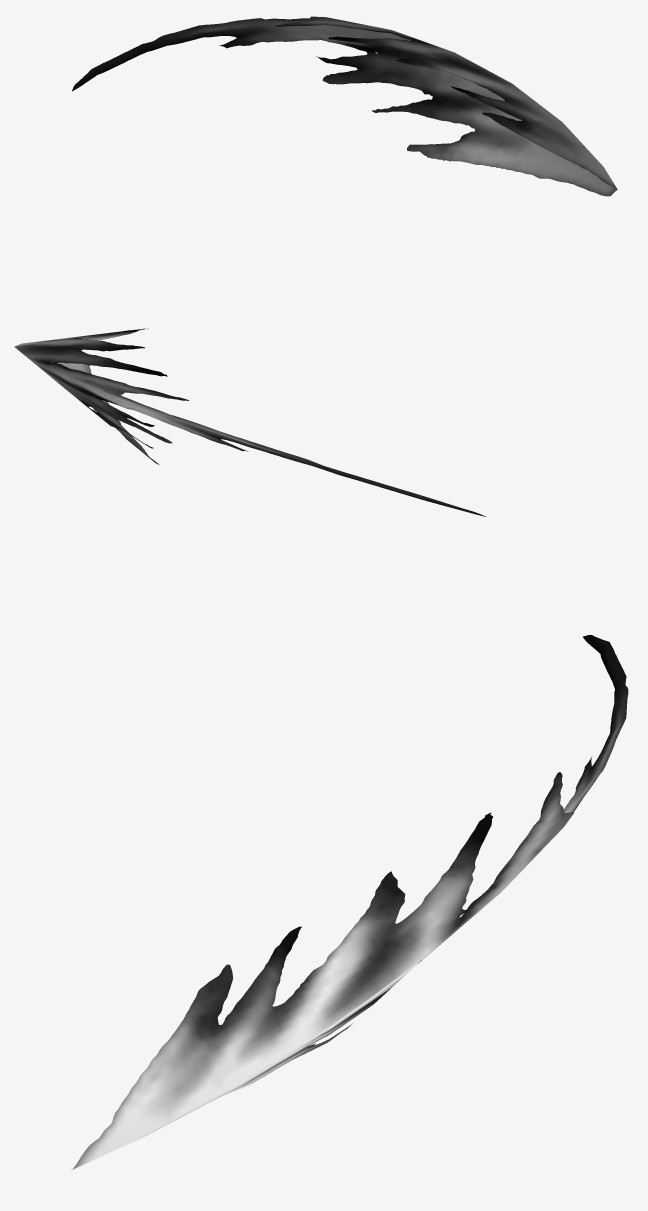
Rendered from EffToonlinkKaitengiriSword.obj.
3 renders of one model, top to bottom at view 1: azimuth 30°, elevation 25°; view 2: azimuth 150°, elevation 25°; view 3: azimuth 270°, elevation 25°, orthographic. The views are drawn at different scales.
Parts seen in each view (by area): view 1: polygon0; view 2: polygon0; view 3: polygon0.
Boxes of the visible parts, box(x1,y1,x2,y2) form: polygon0: box(72, 16, 617, 196); polygon0: box(14, 328, 485, 516); polygon0: box(71, 635, 628, 1170).
Bounding box in the file's own units: 27.79 × 10.22 × 16.99.
1 material, 1 textured.
